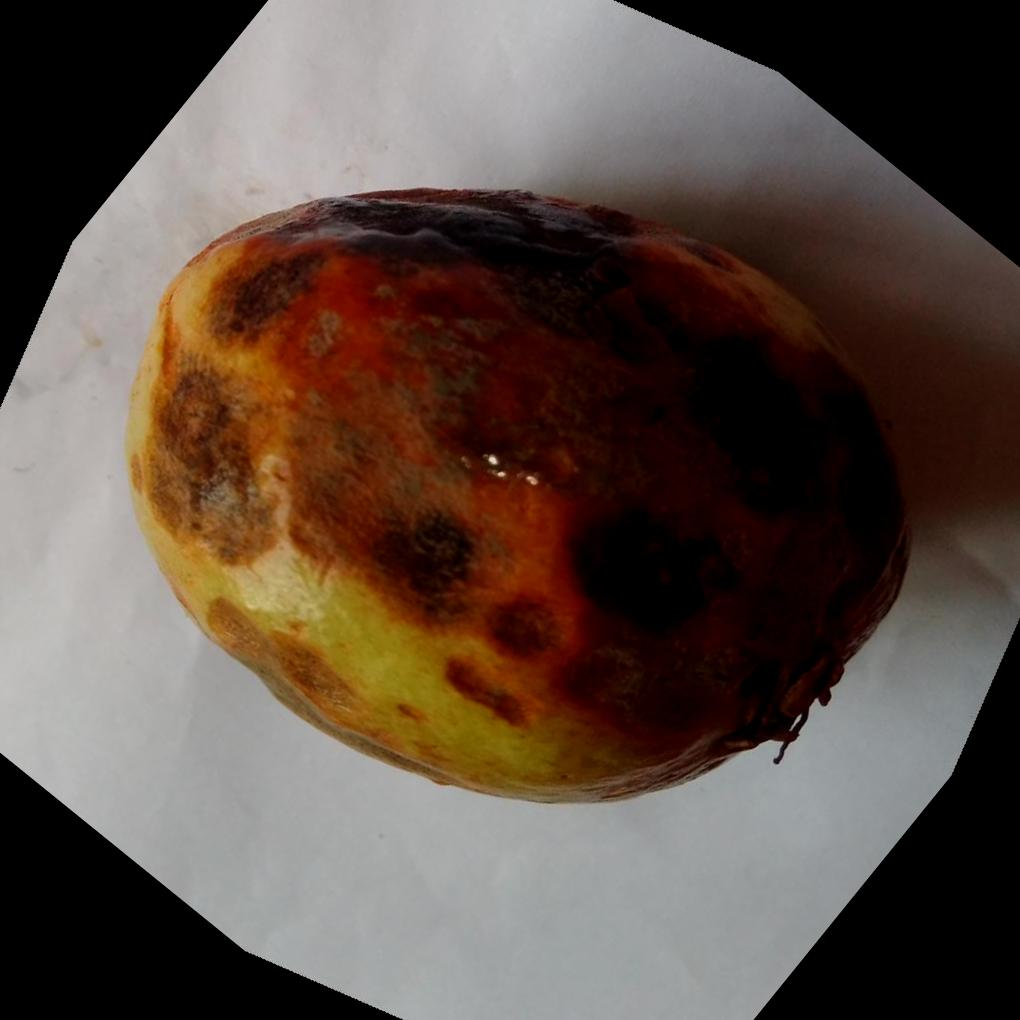FreshOrange: (124, 183, 913, 803)
